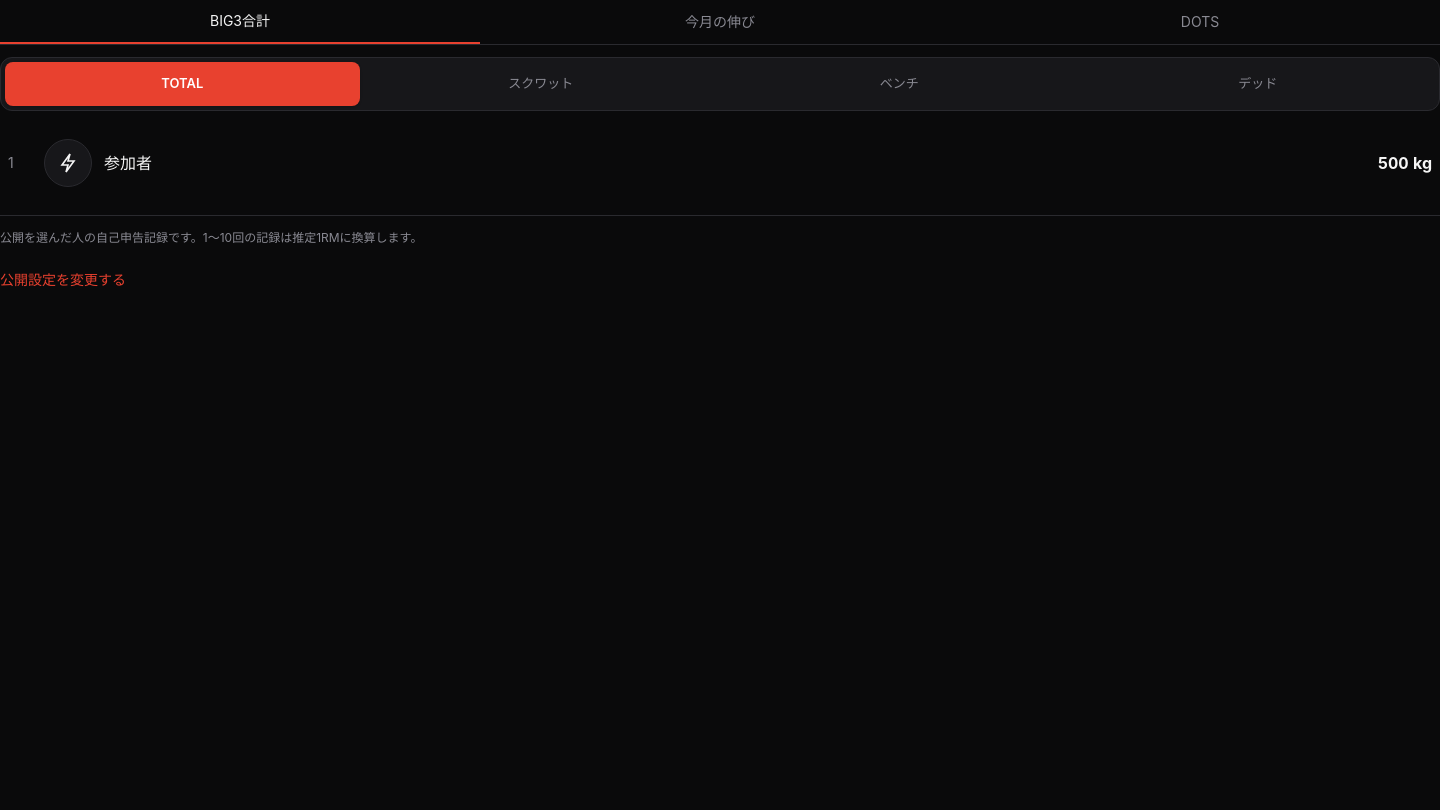
Test: opens a member detail with the three published lift values
What coordinates should you click on to do the following:
click the button "1 参加者 500 kg"
I would click on:
 (68, 163)
Its box is [0, 123, 1439, 203].
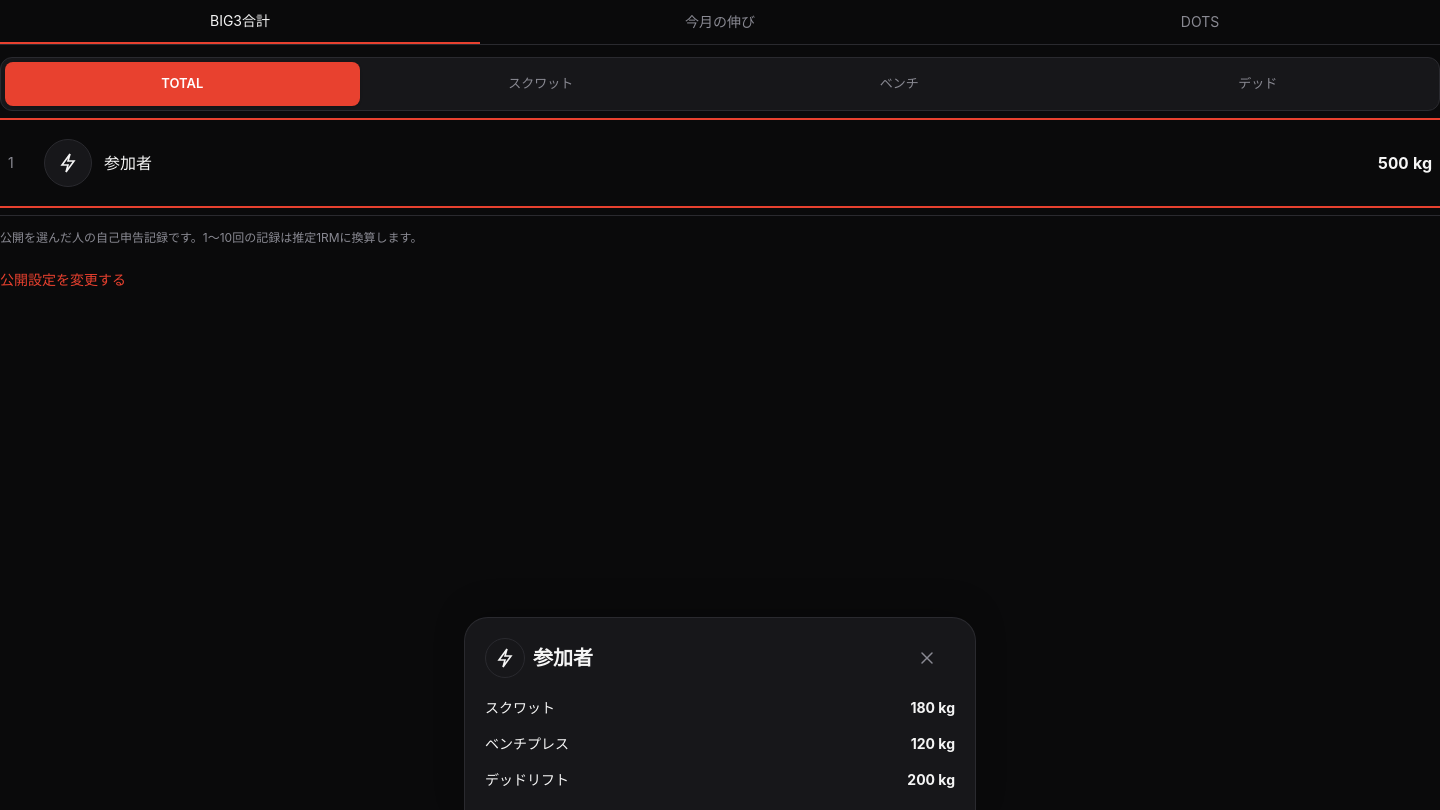
Check: the text "180 kg" is shown, box [910, 698, 955, 718]
Check: the text "120 kg" is shown, box [911, 734, 955, 754]
Check: the text "200 kg" is shown, box [907, 770, 955, 790]
What coordinates should you click on to do the following:
click the button named "閉じる"
I would click on:
 (927, 658)
Its box is [899, 630, 955, 686].
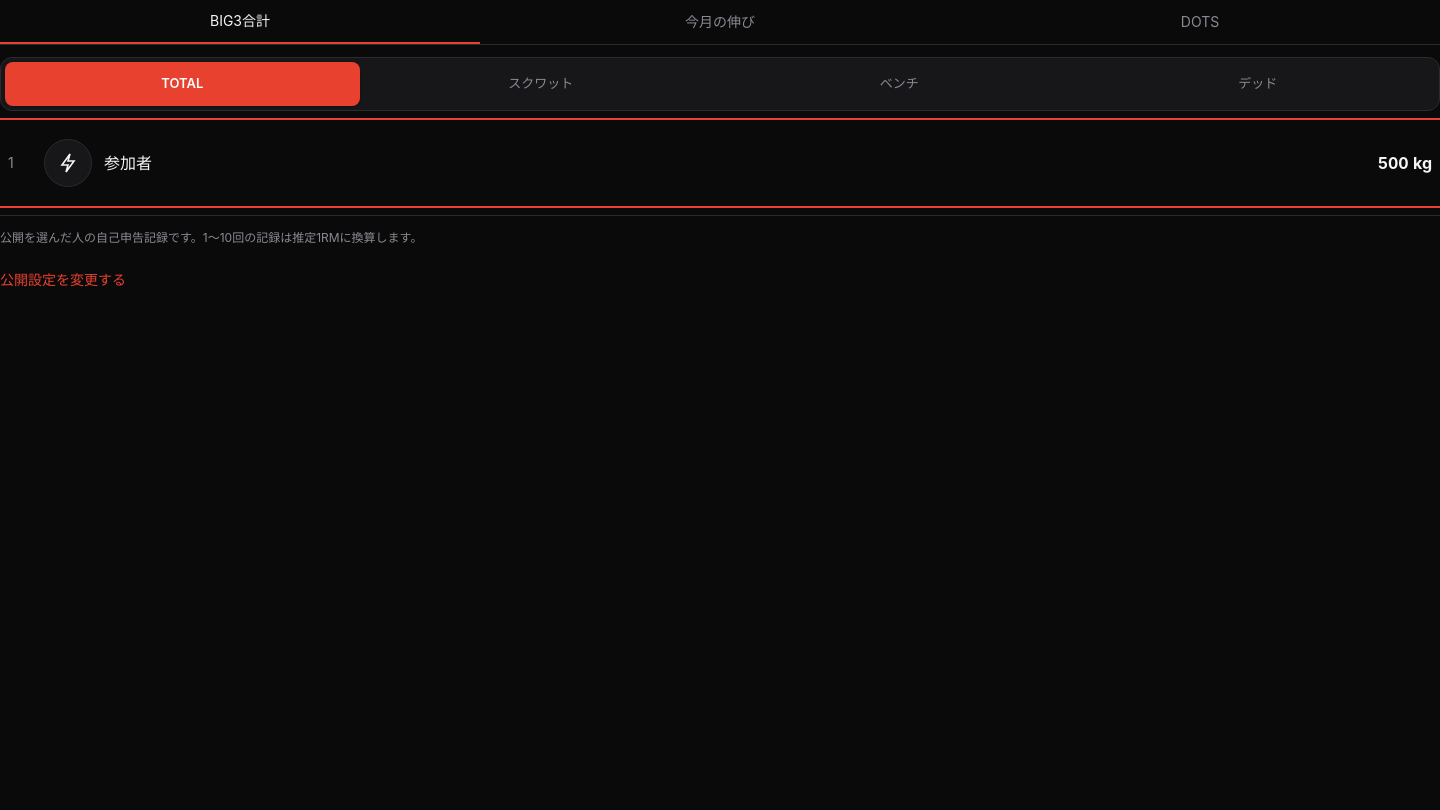
Check: the element "参加者の記録" is gone
